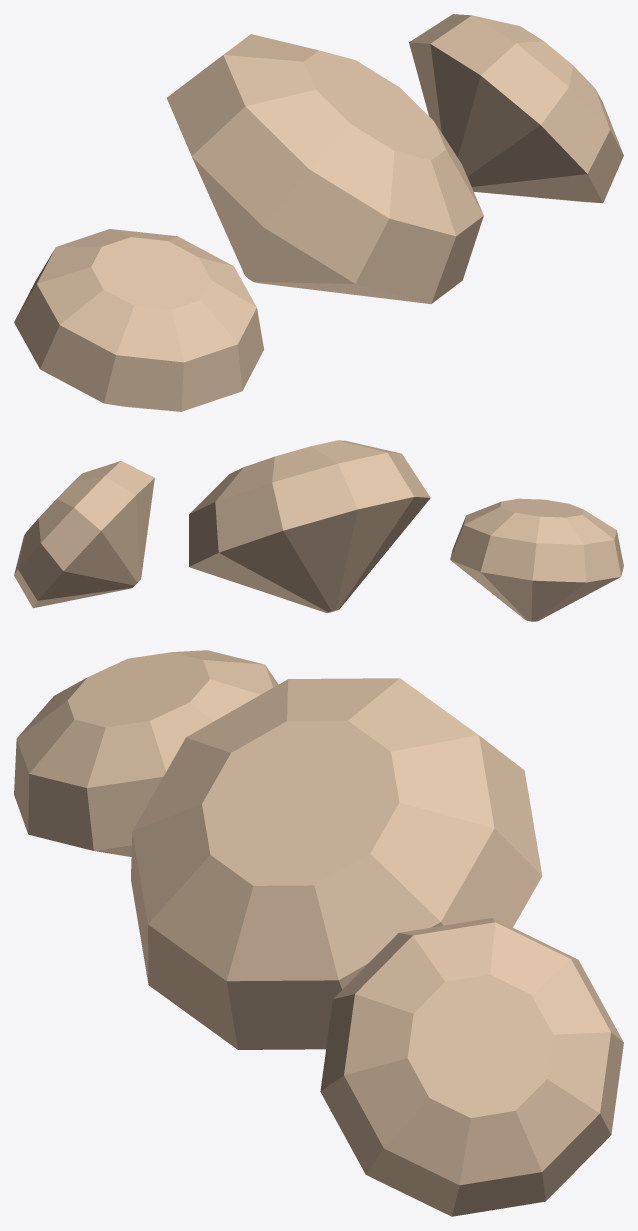
3 views of the same model, one above another, from view 1: azimuth 30°, elevation 25°; view 2: azimuth 150°, elevation 25°; view 3: azimuth 270°, elevation 25° (orthographic). The views are drawn at different scales.
Parts seen in each view (by area): view 1: TI029 / individually faceted stone 1, TI029 / individually faceted stone 0, TI029 / individually faceted stone 2; view 2: TI029 / individually faceted stone 1, TI029 / individually faceted stone 0, TI029 / individually faceted stone 2; view 3: TI029 / individually faceted stone 1, TI029 / individually faceted stone 2, TI029 / individually faceted stone 0.
Part boxes in pixels (<box>): TI029 / individually faceted stone 1: <box>167,34,483,303</box>; TI029 / individually faceted stone 0: <box>14,229,263,411</box>; TI029 / individually faceted stone 2: <box>409,14,623,203</box>; TI029 / individually faceted stone 1: <box>189,440,430,612</box>; TI029 / individually faceted stone 0: <box>450,498,623,621</box>; TI029 / individually faceted stone 2: <box>14,461,154,608</box>; TI029 / individually faceted stone 1: <box>131,678,542,1049</box>; TI029 / individually faceted stone 2: <box>320,918,623,1216</box>; TI029 / individually faceted stone 0: <box>14,650,278,856</box>.
Bounding box in the file's own units: 2.54 × 0.8889 × 1.57.
